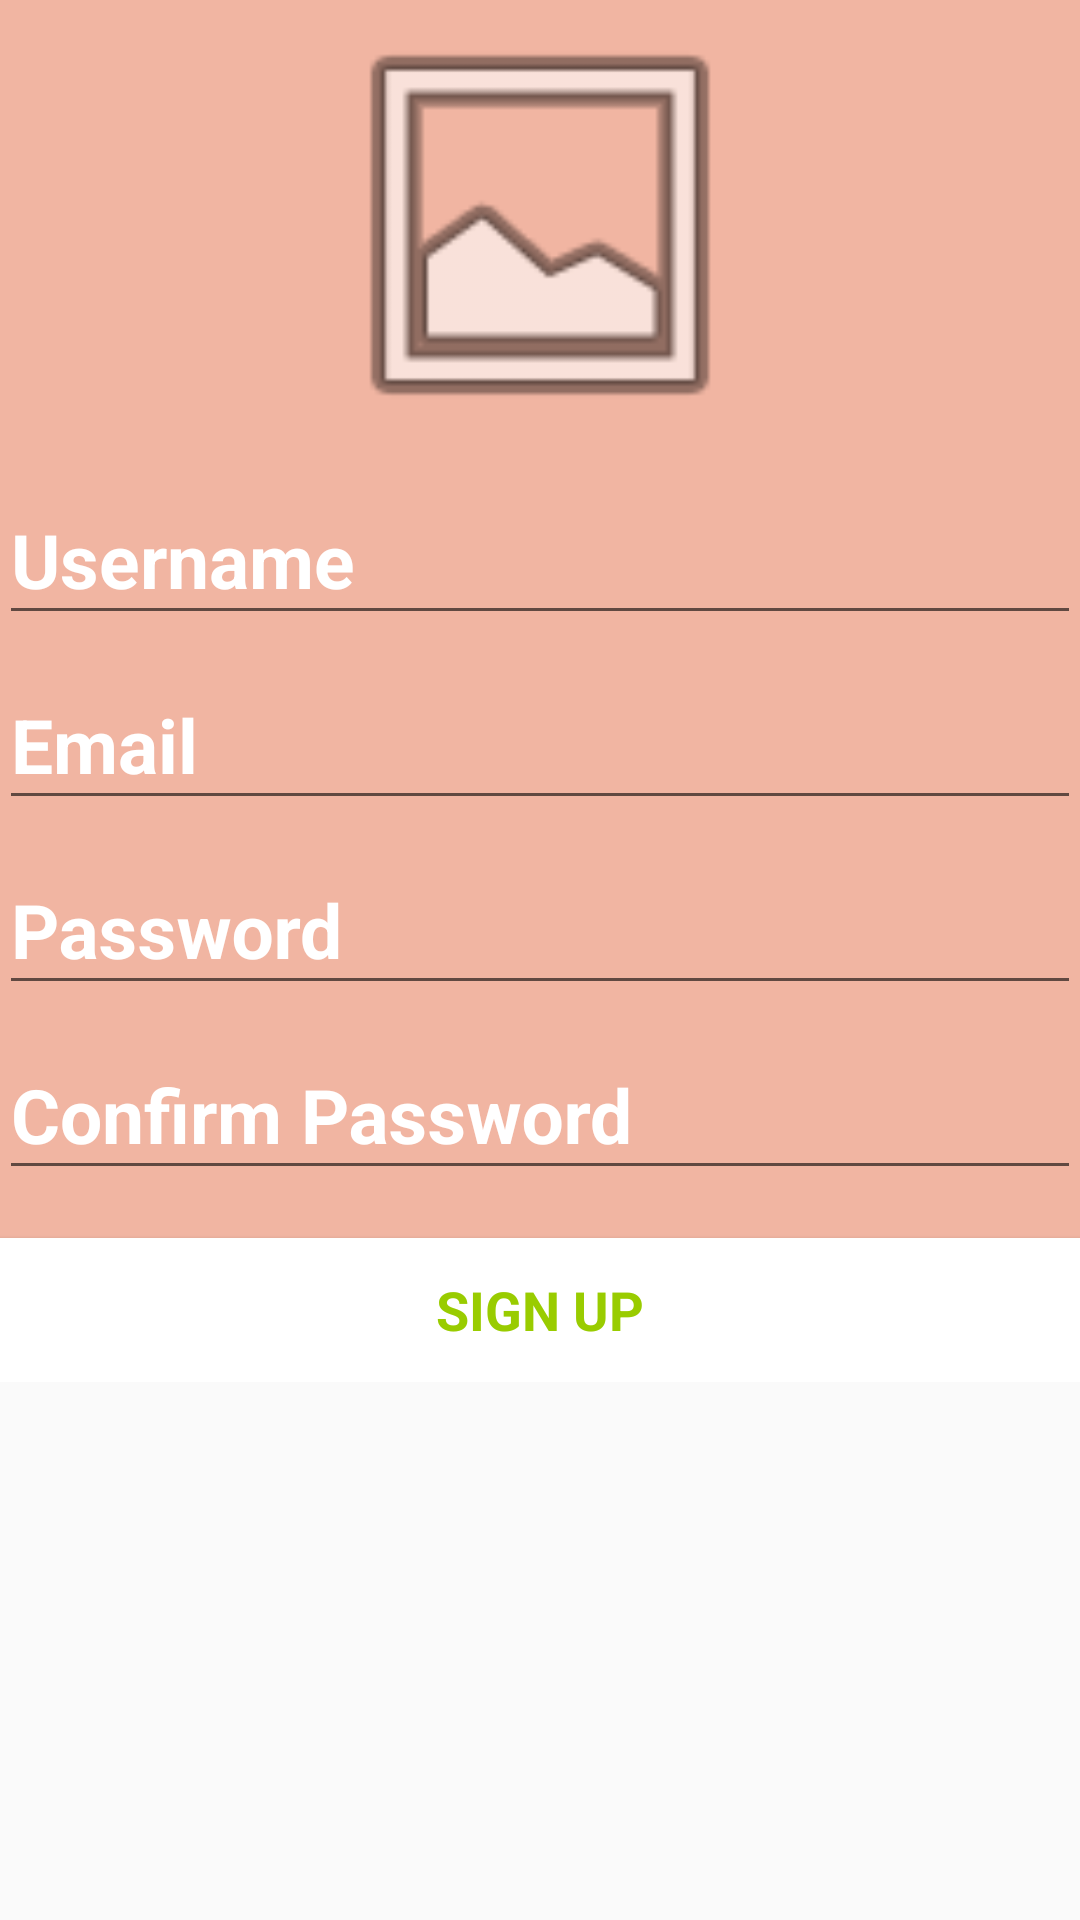

Named icons in this screenshot (1080*1920) and their bounding boxes, (x1, y1, x2, y2):
gallery: (370, 55, 710, 395)
